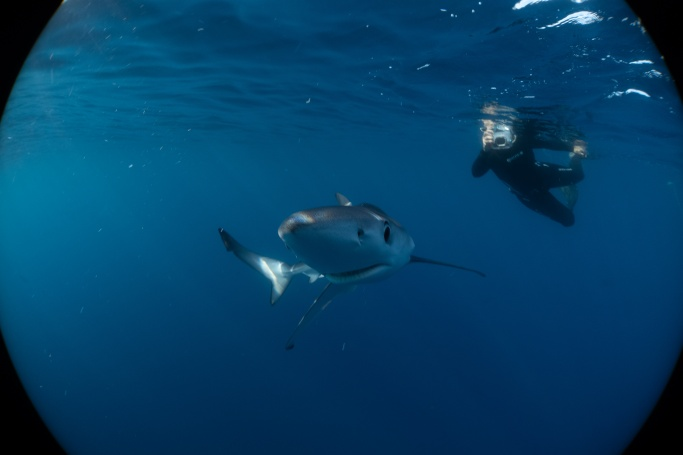Azul: (186, 175, 501, 354)
